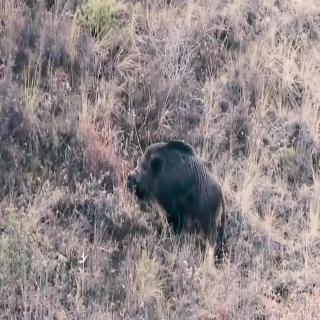Pig: (118, 117, 234, 263)
